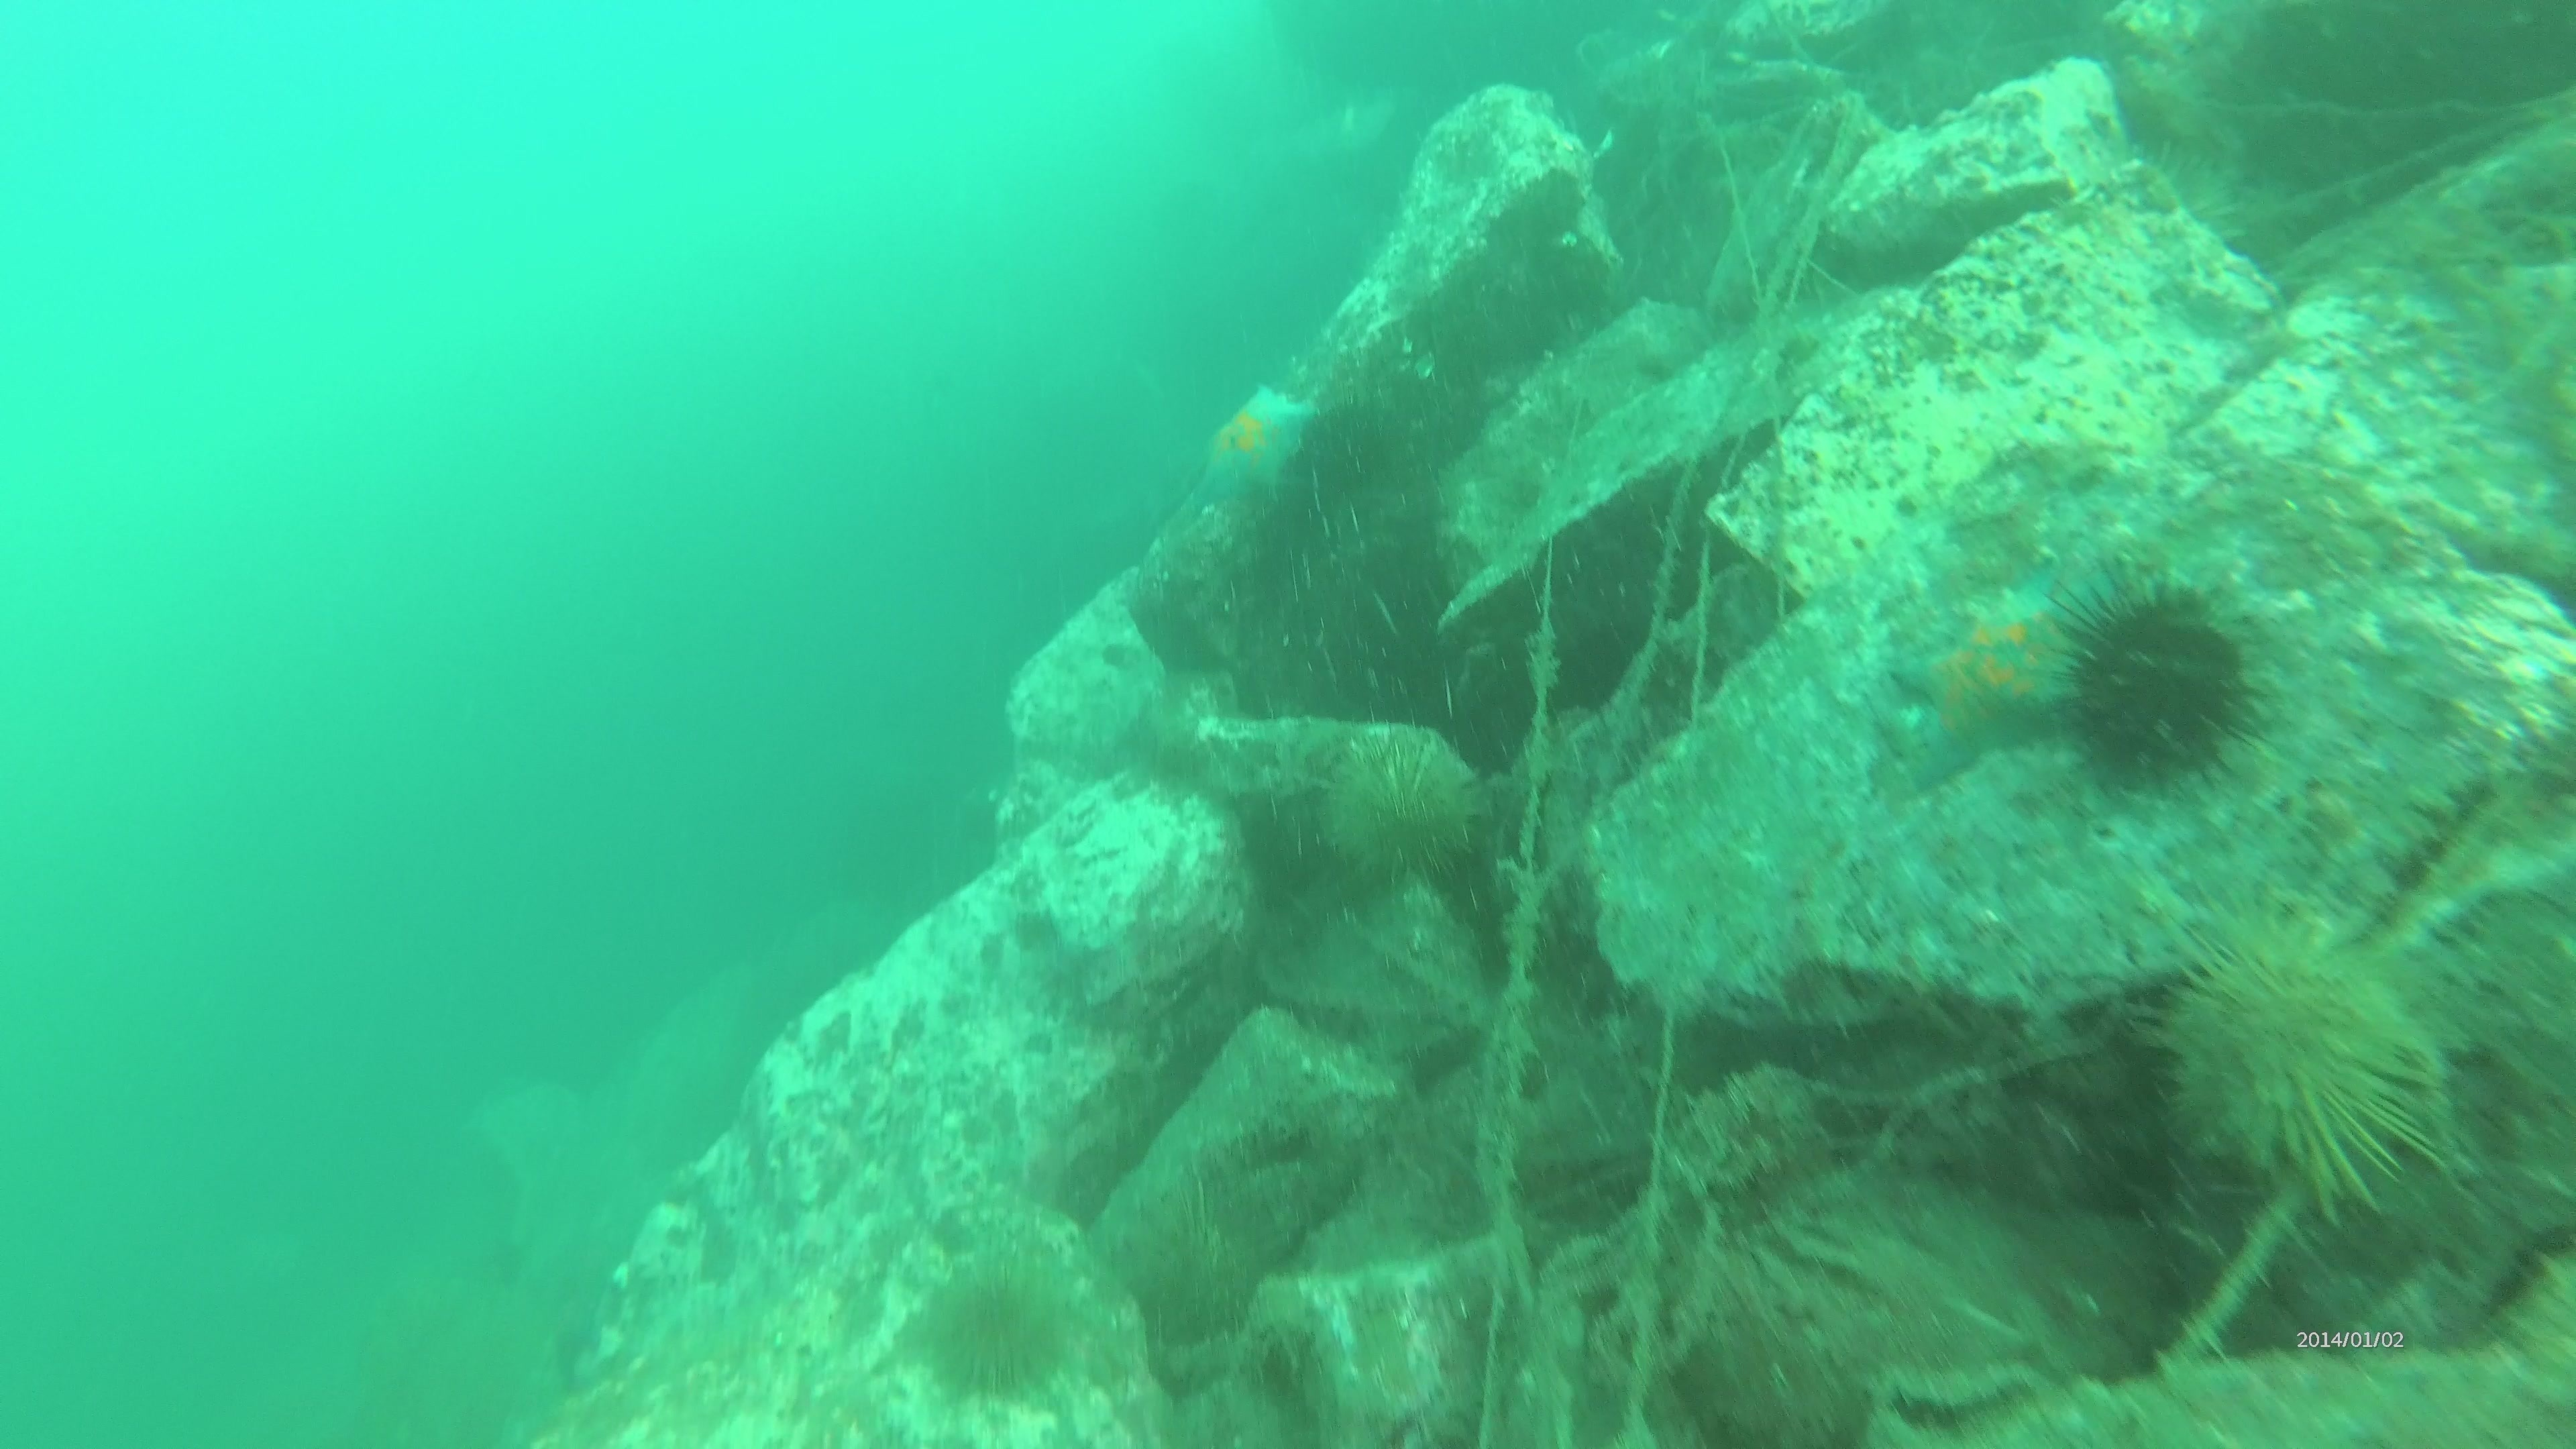echinus: (2144, 901, 2454, 1212), (2043, 568, 2272, 796), (1311, 731, 1488, 893), (909, 1249, 1083, 1407)
starfish: (1884, 566, 2095, 784), (1185, 377, 1322, 515)
